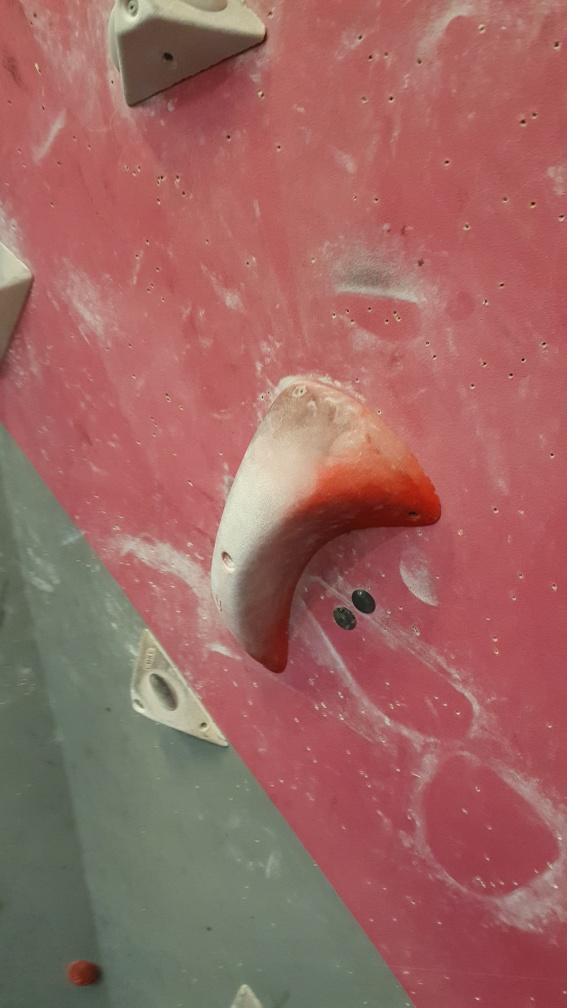Hand Start: (332, 605, 360, 633), (352, 590, 379, 616)
Pinch: (206, 377, 444, 673)
